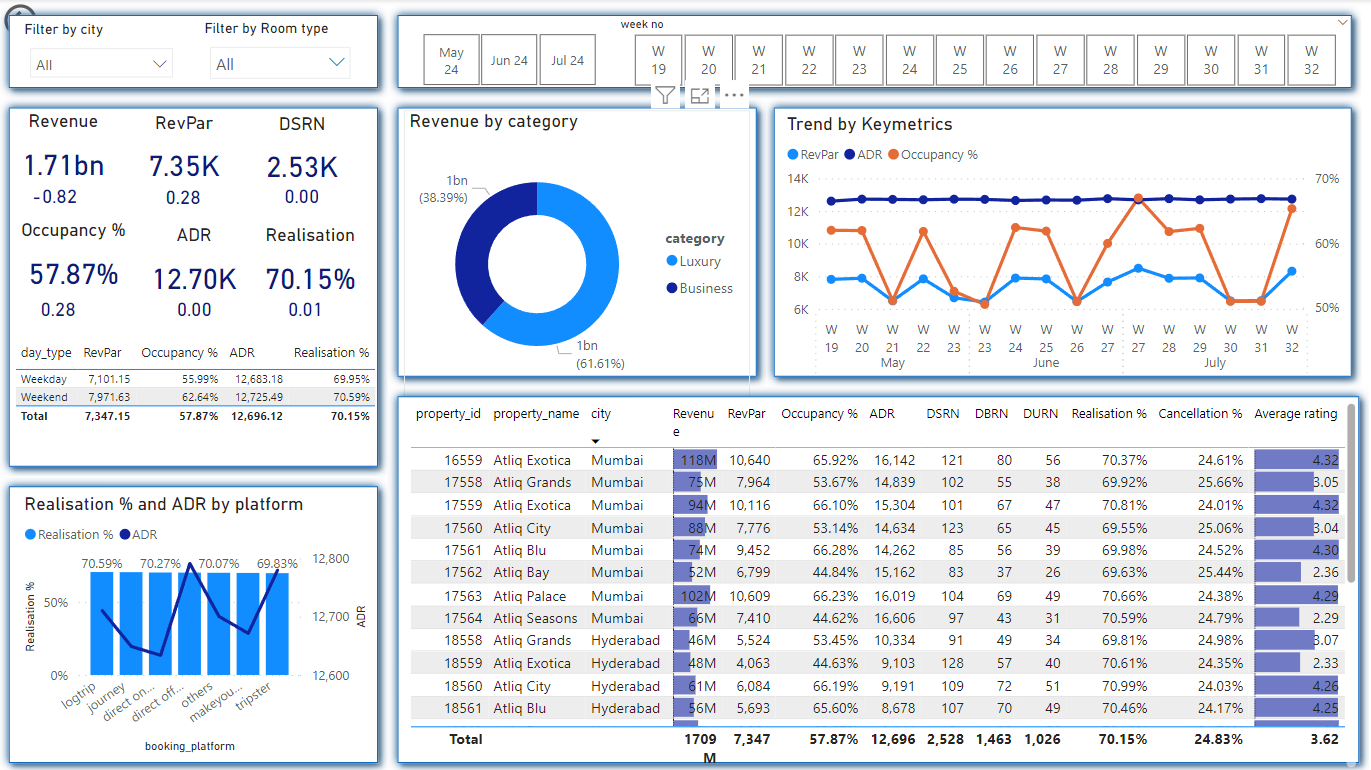

Layout of this report page (visuals, bound fields, positions):
{"tool":"powerbi","page":{"name":"Page 1","canvas":[1280,720],"ordinal":0},"visuals":[{"type":"actionButton","box":[0,0,100,40],"z":20000},{"type":"shape","box":[0,5.8,361.6,86],"z":21001},{"type":"slicer","title":"Filter by city","fields":{"Values":["dim_hotels.city"]},"box":[18.6,20.9,153.5,55.8],"z":21002},{"type":"slicer","title":"Filter by Room type","fields":{"Values":["dim_rooms.room_class"]},"box":[186,19.8,151.2,57],"z":21003},{"type":"shape","box":[361.6,5.8,905.8,86],"z":21004},{"type":"slicer","fields":{"Values":["dim_date.mmm yy"]},"box":[368.6,25.6,210.5,61.6],"z":21005},{"type":"slicer","fields":{"Values":["dim_date.week no"]},"box":[565.1,11.6,702.3,75.6],"z":21006},{"type":"shape","box":[0,91.9,361.6,352.3],"z":21007},{"type":"card","title":"Revenue","fields":{"Values":["key_measures.Revenue"]},"box":[0,103.5,119.8,80.2],"z":21008},{"type":"card","title":"Revenue","fields":{"Values":["key_measures.Revenue WoW change %"]},"box":[0,159.3,103.5,48.8],"z":21009},{"type":"card","title":"RevPar","fields":{"Values":["key_measures.RevPar"]},"box":[107,104.7,130.2,80.2],"z":21010},{"type":"card","title":"Revenue","fields":{"Values":["key_measures.Revpar WoW change %"]},"box":[119.8,160.5,103.5,48.8],"z":21011},{"type":"card","title":"DSRN","fields":{"Values":["key_measures.DSRN"]},"box":[223.3,105.8,117.4,80.2],"z":21012},{"type":"card","title":"Revenue","fields":{"Values":["key_measures.DSRN WoW change %"]},"box":[230.2,159.3,103.5,48.8],"z":21013},{"type":"card","title":"Occupancy %","fields":{"Values":["key_measures.Occupancy %"]},"box":[8.1,204.7,122.1,80.2],"z":21014},{"type":"card","title":"Revenue","fields":{"Values":["key_measures.Occupancy WoW change %"]},"box":[3.5,265.1,103.5,48.8],"z":21015},{"type":"card","title":"ADR","fields":{"Values":["key_measures.ADR"]},"box":[122.1,209.3,118.6,80.2],"z":21016},{"type":"card","title":"Revenue","fields":{"Values":["key_measures.ADR WoW change %"]},"box":[130.2,265.1,103.5,48.8],"z":21017},{"type":"card","title":"Realisation","fields":{"Values":["key_measures.Realisation %"]},"box":[230.2,209.3,118.6,80.2],"z":21018},{"type":"card","title":"Revenue","fields":{"Values":["key_measures.Realisation WoW change %"]},"box":[233.7,265.1,103.5,48.8],"z":21019},{"type":"tableEx","fields":{"Values":["dim_date.day_type","key_measures.RevPar","key_measures.Occupancy %","key_measures.ADR","key_measures.Realisation %"]},"box":[9.3,314,361.6,114],"z":21020},{"type":"shape","box":[0,444.2,361.6,275.6],"z":21021},{"type":"lineStackedColumnComboChart","title":"Realisation % and ADR by platform","fields":{"Category":["fact_booking.booking_platform"],"Y":["key_measures.Realisation %"],"Y2":["key_measures.ADR"]},"box":[18.6,459.3,330.2,246.5],"z":21022},{"type":"shape","box":[361.6,91.9,352.3,268.6],"z":21023},{"type":"donutChart","fields":{"Category":["dim_hotels.category"],"Y":["key_measures.Revenue"]},"box":[376.7,103.5,322.1,267.4],"z":21024},{"type":"shape","box":[711.6,91.9,555.8,268.6],"z":21025},{"type":"lineChart","title":"Trend by Keymetrics","fields":{"Category":["dim_date.mmm yy.Variation.Date Hierarchy.Month","dim_date.week no"],"Y":["key_measures.RevPar","key_measures.ADR"],"Y2":["key_measures.Occupancy %"]},"box":[727.9,105.8,524.4,254.7],"z":21026},{"type":"shape","box":[361.6,360.5,912.8,359.3],"z":21027},{"type":"tableEx","fields":{"Values":["dim_hotels.property_id","dim_hotels.property_name","dim_hotels.city","key_measures.Revenue","key_measures.RevPar","key_measures.Occupancy %","key_measures.ADR","key_measures.DSRN","key_measures.DBRN","key_measures.DURN","key_measures.Realisation %","key_measures.Cancellation %"]},"box":[376.7,370.9,890.7,348.8],"z":21029}]}

Visuals, with their boxes in screenshot pixels (x1, y1, x2, y2), scaled from the page's 1280x720 canvas onto the 1371x770 screenshot:
actionButton: bbox=(0, 0, 107, 43)
shape: bbox=(0, 6, 387, 98)
"Filter by city" slicer: bbox=(20, 22, 184, 82)
"Filter by Room type" slicer: bbox=(199, 21, 361, 82)
shape: bbox=(387, 6, 1358, 98)
slicer - dim_date.mmm yy: bbox=(395, 27, 620, 93)
slicer - dim_date.week no: bbox=(605, 12, 1358, 93)
shape: bbox=(0, 98, 387, 475)
"Revenue" card: bbox=(0, 111, 128, 196)
"Revenue" card: bbox=(0, 170, 111, 223)
"RevPar" card: bbox=(115, 112, 254, 198)
"Revenue" card: bbox=(128, 172, 239, 224)
"DSRN" card: bbox=(239, 113, 365, 199)
"Revenue" card: bbox=(247, 170, 357, 223)
"Occupancy %" card: bbox=(9, 219, 139, 305)
"Revenue" card: bbox=(4, 284, 115, 336)
"ADR" card: bbox=(131, 224, 258, 310)
"Revenue" card: bbox=(139, 284, 250, 336)
"Realisation" card: bbox=(247, 224, 374, 310)
"Revenue" card: bbox=(250, 284, 361, 336)
tableEx - dim_date.day_type x key_measures.RevPar: bbox=(10, 336, 397, 458)
shape: bbox=(0, 475, 387, 769)
"Realisation % and ADR by platform" lineStackedColumnComboChart: bbox=(20, 491, 374, 755)
shape: bbox=(387, 98, 765, 386)
donutChart - dim_hotels.category x key_measures.Revenue: bbox=(403, 111, 748, 397)
shape: bbox=(762, 98, 1358, 386)
"Trend by Keymetrics" lineChart: bbox=(780, 113, 1341, 386)
shape: bbox=(387, 386, 1365, 769)
tableEx - dim_hotels.property_id x dim_hotels.property_name: bbox=(403, 397, 1358, 769)
